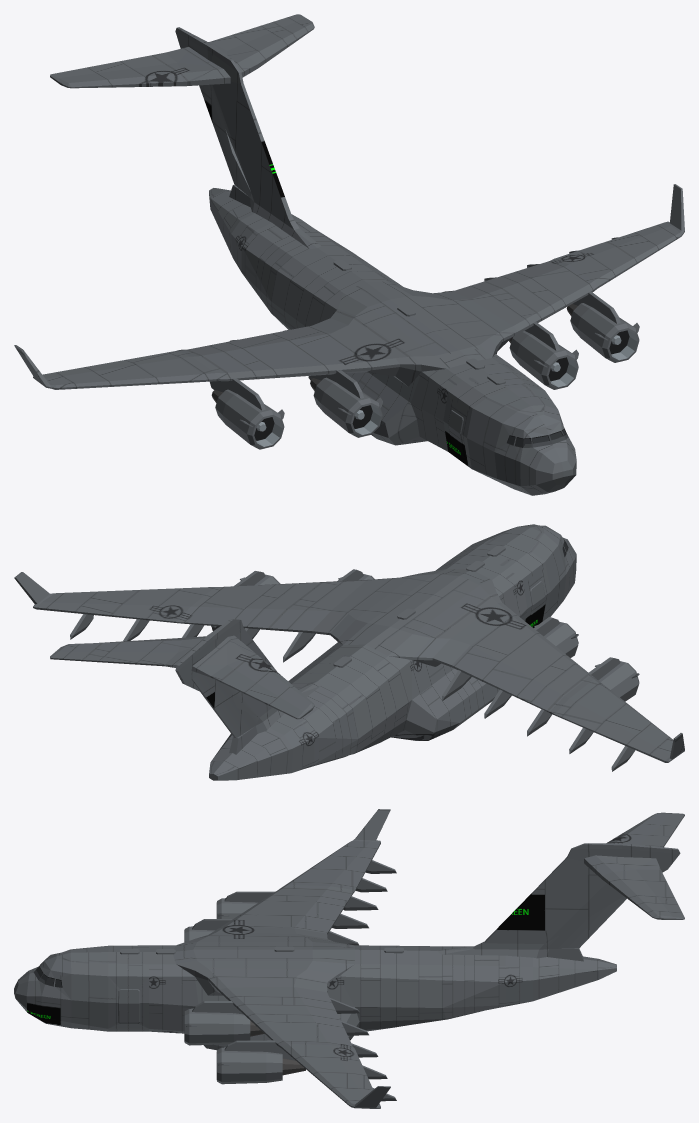
File: SM_Veh_TransportPlane_01.fbx
The picture shows the model from 3 angles, top to bottom: view 1: azimuth 30°, elevation 25°; view 2: azimuth 150°, elevation 25°; view 3: azimuth 270°, elevation 25°; orthographic projection. The views are drawn at different scales.
Parts seen in each view (by area): view 1: SM_Veh_TransportPlane_01, SM_Veh_TransportPlane_Flap_Tail_01, SM_Veh_TransportPlane_Flap_R_01, SM_Veh_TransportPlane_Flap_L_01, SM_Veh_TransportPlane_Flap_Tail_R_01, SM_Veh_TransportPlane_Flap_R_02, SM_Veh_TransportPlane_Flap_L_02, SM_Veh_TransportPlane_Flap_Tail_L_01; view 2: SM_Veh_TransportPlane_01, SM_Veh_TransportPlane_Flap_R_01, SM_Veh_TransportPlane_Flap_L_01, SM_Veh_TransportPlane_Flap_L_02, SM_Veh_TransportPlane_Flap_R_02, SM_Veh_TransportPlane_Flap_Tail_01, SM_Veh_TransportPlane_Flap_Tail_R_01, SM_Veh_TransportPlane_Flap_Tail_L_01; view 3: SM_Veh_TransportPlane_01, SM_Veh_TransportPlane_Flap_R_01, SM_Veh_TransportPlane_Flap_L_01, SM_Veh_TransportPlane_Flap_R_02, SM_Veh_TransportPlane_Flap_Tail_01, SM_Veh_TransportPlane_Flap_L_02, SM_Veh_TransportPlane_Flap_Tail_L_01, SM_Veh_TransportPlane_Flap_Tail_R_01.
Boxes of the visible parts, bbox=[...] form: SM_Veh_TransportPlane_01: bbox=[14, 14, 684, 495]; SM_Veh_TransportPlane_Flap_Tail_01: bbox=[199, 84, 251, 196]; SM_Veh_TransportPlane_Flap_R_01: bbox=[177, 325, 330, 356]; SM_Veh_TransportPlane_Flap_L_01: bbox=[442, 261, 563, 299]; SM_Veh_TransportPlane_Flap_Tail_R_01: bbox=[51, 52, 176, 78]; SM_Veh_TransportPlane_Flap_R_02: bbox=[43, 351, 190, 378]; SM_Veh_TransportPlane_Flap_L_02: bbox=[555, 222, 670, 264]; SM_Veh_TransportPlane_Flap_Tail_L_01: bbox=[211, 14, 303, 50]; SM_Veh_TransportPlane_01: bbox=[14, 524, 684, 780]; SM_Veh_TransportPlane_Flap_R_01: bbox=[442, 645, 564, 736]; SM_Veh_TransportPlane_Flap_L_01: bbox=[182, 607, 330, 662]; SM_Veh_TransportPlane_Flap_L_02: bbox=[36, 602, 190, 641]; SM_Veh_TransportPlane_Flap_R_02: bbox=[554, 699, 670, 771]; SM_Veh_TransportPlane_Flap_Tail_01: bbox=[192, 674, 258, 738]; SM_Veh_TransportPlane_Flap_Tail_R_01: bbox=[211, 665, 303, 718]; SM_Veh_TransportPlane_Flap_Tail_L_01: bbox=[50, 651, 177, 666]; SM_Veh_TransportPlane_01: bbox=[14, 809, 684, 1108]; SM_Veh_TransportPlane_Flap_R_01: bbox=[294, 888, 378, 945]; SM_Veh_TransportPlane_Flap_L_01: bbox=[294, 987, 378, 1057]; SM_Veh_TransportPlane_Flap_R_02: bbox=[330, 841, 396, 892]; SM_Veh_TransportPlane_Flap_Tail_01: bbox=[545, 896, 626, 948]; SM_Veh_TransportPlane_Flap_L_02: bbox=[330, 1045, 396, 1106]; SM_Veh_TransportPlane_Flap_Tail_L_01: bbox=[636, 869, 684, 917]; SM_Veh_TransportPlane_Flap_Tail_R_01: bbox=[640, 814, 684, 847].
Bounding box in the file's own units: 4703 × 1490 × 4800.
